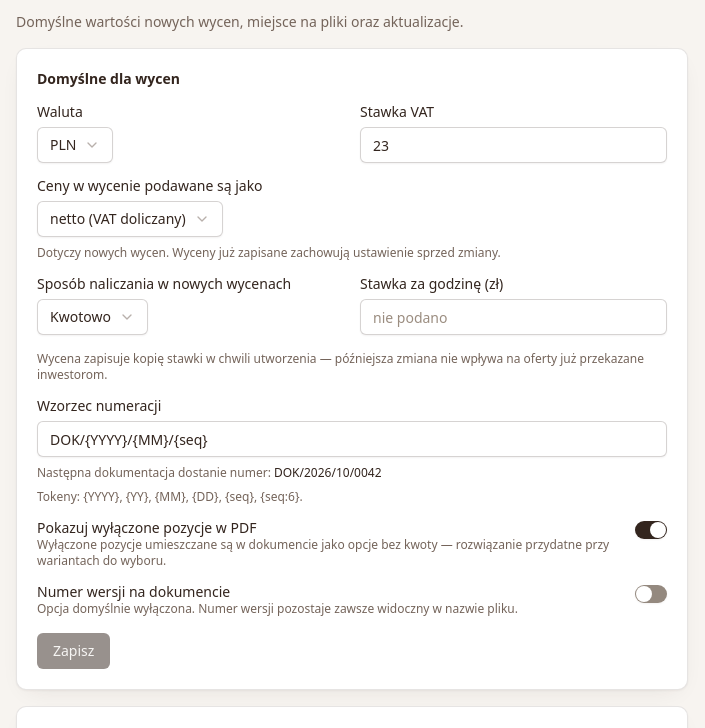
it: Ustawienia → Aplikacja: wyceny › zapis jest nieaktywny, dopoki nic nie zmieniono
Expected: the button "Zapisz" is disabled, [37,633,110,669]
Type "X" into the field labelled "Wzorzec numeracji" at (352, 439), box [37,421,667,457]
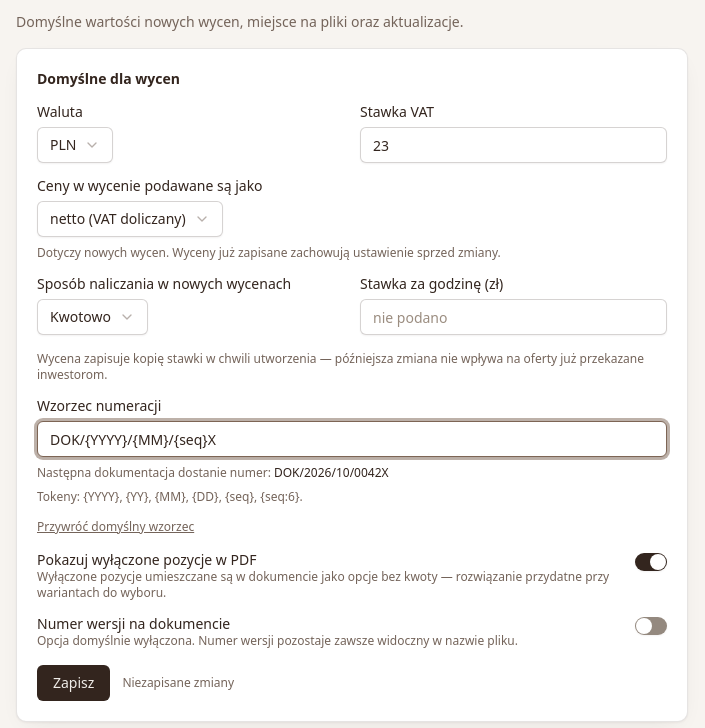
Now the button "Zapisz" is enabled, box [37,665,110,701]
